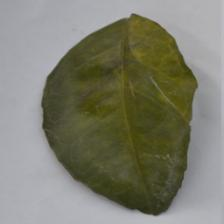greening: (112, 12, 197, 105)
